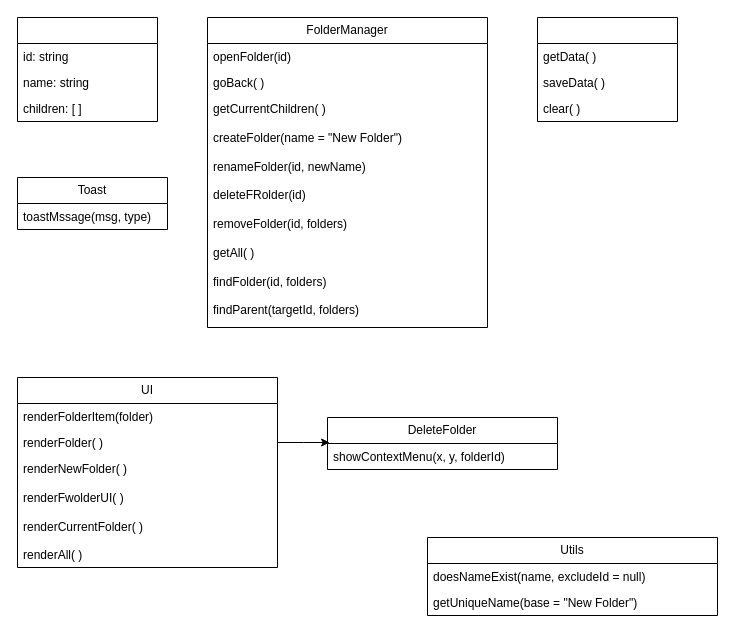
Image size: 735x636. Some labels were removed from this diagram. The shapes that lost their labels are listed below. From the top down, each one's box as (x1, y1, x2, y2) in pixels, then its label:
(16, 16, 158, 122): Folder
(536, 16, 678, 122): LocalStorage
